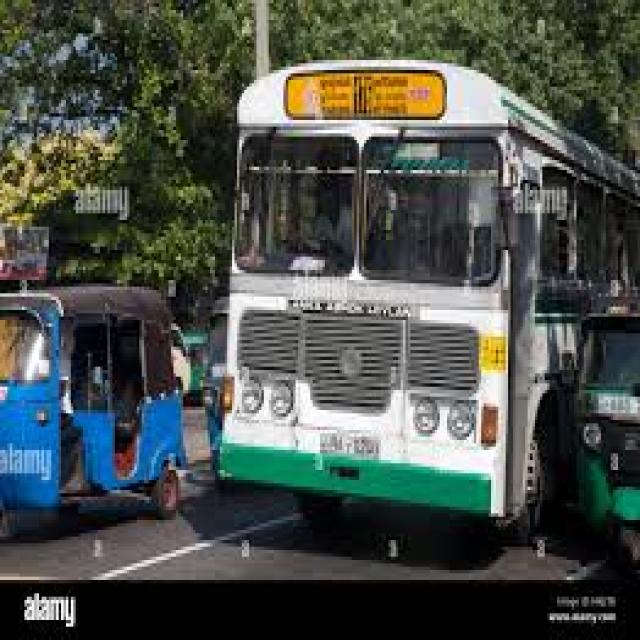bus: (224, 38, 546, 542)
tuktuk: (12, 275, 194, 560), (571, 298, 640, 606)
